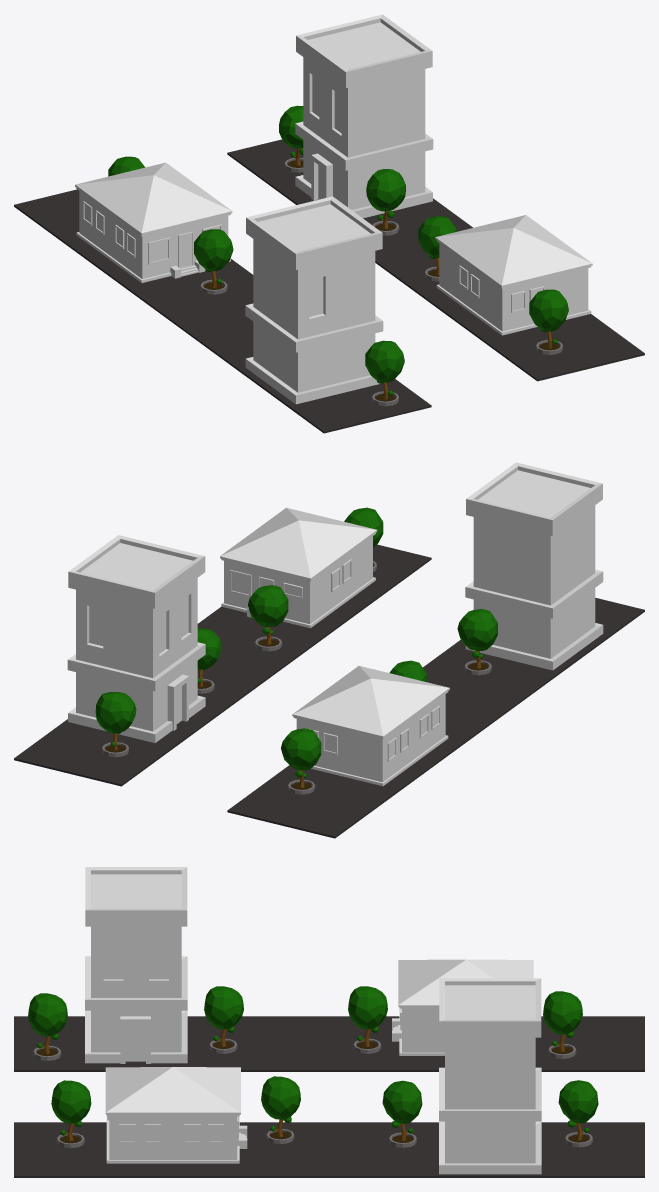
Rendered from taemplate_b_002.fbx.
3 renders of one model, top to bottom at view 1: azimuth 30°, elevation 25°; view 2: azimuth 150°, elevation 25°; view 3: azimuth 270°, elevation 25°, orthographic.
Visible parts, largest first — view 1: two-story house.005, two-story house.008, roadside.004, roadside.003, one-story house.007, one-story house.006, tree.015, tree.014, tree.012, tree.010, tree.013, tree.016; view 2: two-story house.005, two-story house.008, roadside.004, roadside.003, one-story house.007, one-story house.006, tree.011, tree.013, tree.009, tree.016, tree.015, tree.014 (+1 smaller); view 3: roadside.003, two-story house.008, two-story house.005, roadside.004, one-story house.006, one-story house.007, tree.011, tree.013, tree.010, tree.012, tree.014, tree.009 (+2 smaller).
Boxes of the visible parts, x1,y1,x2,y2 form: two-story house.005: (245, 196, 383, 404); two-story house.008: (295, 14, 433, 218); roadside.004: (14, 189, 431, 433); roadside.003: (227, 139, 644, 381); one-story house.007: (75, 162, 232, 282); one-story house.006: (435, 215, 592, 335); tree.015: (366, 169, 405, 235); tree.014: (529, 289, 568, 354); tree.012: (365, 340, 404, 406); tree.010: (194, 229, 233, 294); tree.013: (418, 216, 456, 281); tree.016: (279, 105, 303, 172); two-story house.005: (465, 462, 603, 670); two-story house.008: (67, 535, 205, 742); roadside.004: (227, 598, 644, 838); roadside.003: (14, 544, 431, 786); one-story house.007: (292, 666, 449, 786); one-story house.006: (220, 507, 377, 628); tree.011: (281, 728, 321, 794); tree.013: (248, 585, 288, 651); tree.009: (457, 609, 497, 675); tree.016: (95, 692, 136, 757); tree.015: (197, 628, 221, 693); tree.014: (344, 507, 383, 571); roadside.003: (14, 1122, 644, 1177); two-story house.008: (439, 978, 541, 1174); two-story house.005: (85, 867, 187, 1063); roadside.004: (14, 1016, 644, 1071); one-story house.006: (105, 1067, 247, 1163); one-story house.007: (392, 959, 533, 1055); tree.011: (543, 991, 582, 1058); tree.013: (261, 1076, 300, 1143); tree.010: (348, 986, 387, 1053); tree.012: (28, 993, 67, 1060); tree.014: (51, 1080, 91, 1148); tree.009: (204, 986, 243, 1053).
Bounding box in the file's own units: 891 × 403 × 1489.
